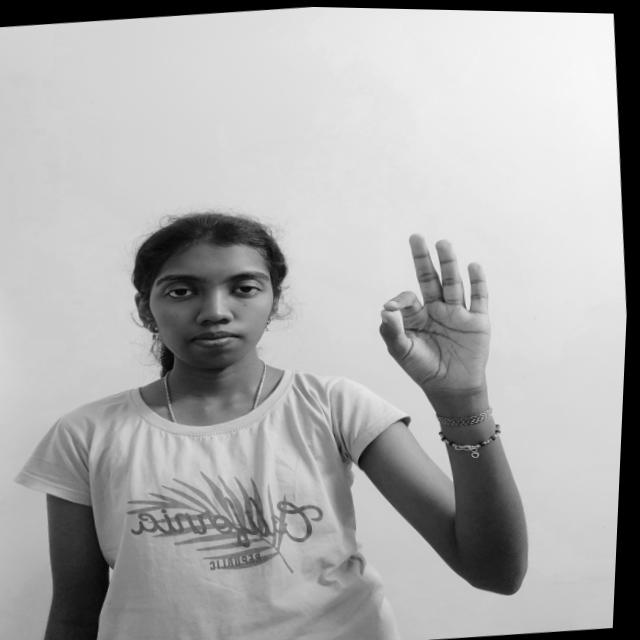Superb: (358, 218, 522, 413)
